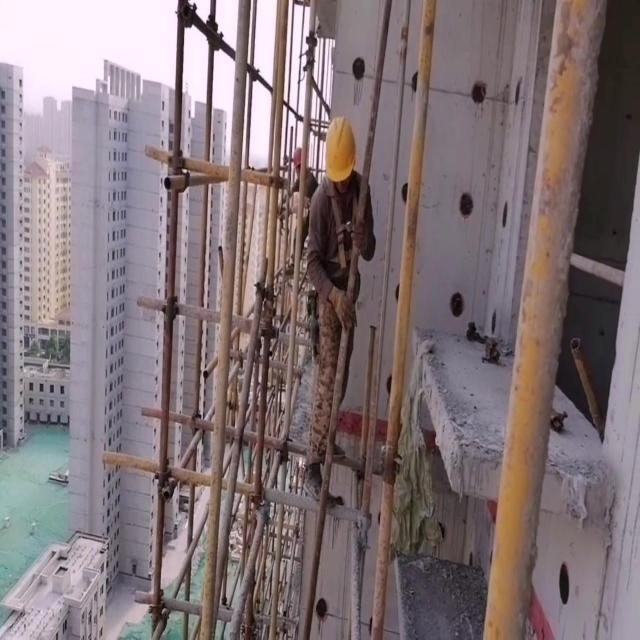Arnes_seguridad: (317, 168, 367, 275)
